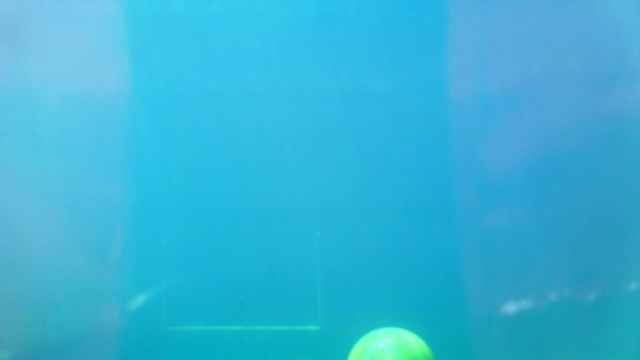channel: (158, 230, 321, 330)
